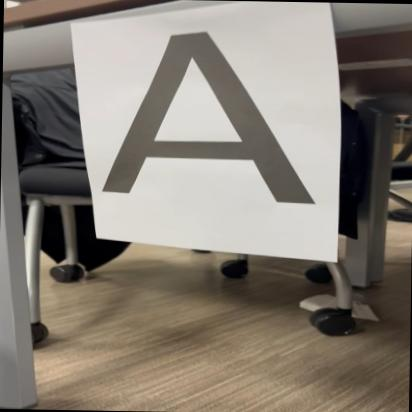seat: (87, 20, 327, 212)
